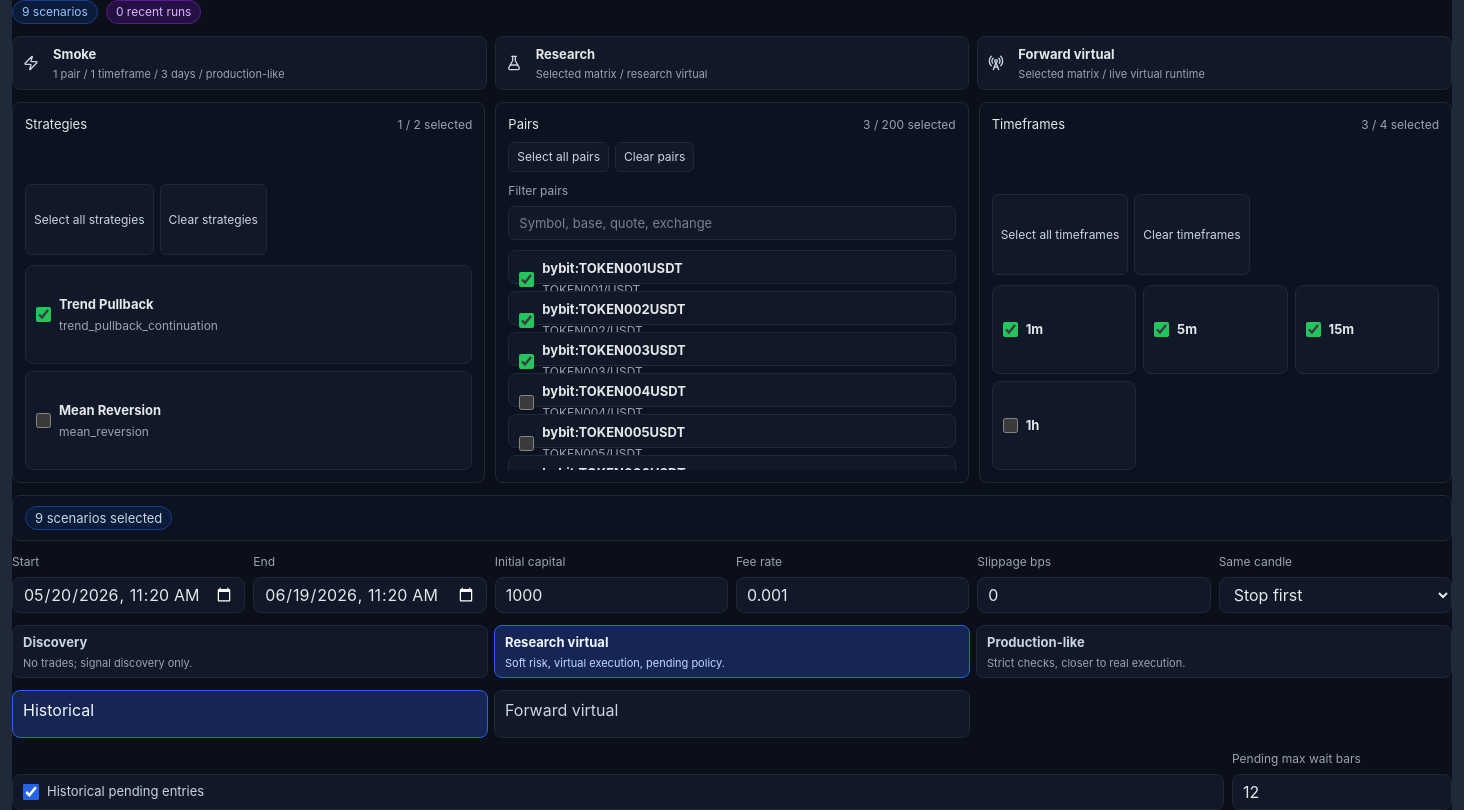
Test: StrategyTestingPanel › shows a local scenario count and large matrix warning
The width and height of the screenshot is (1464, 810).
Click the button "Select all strategies". click: (89, 220)
box: [25, 184, 154, 255]
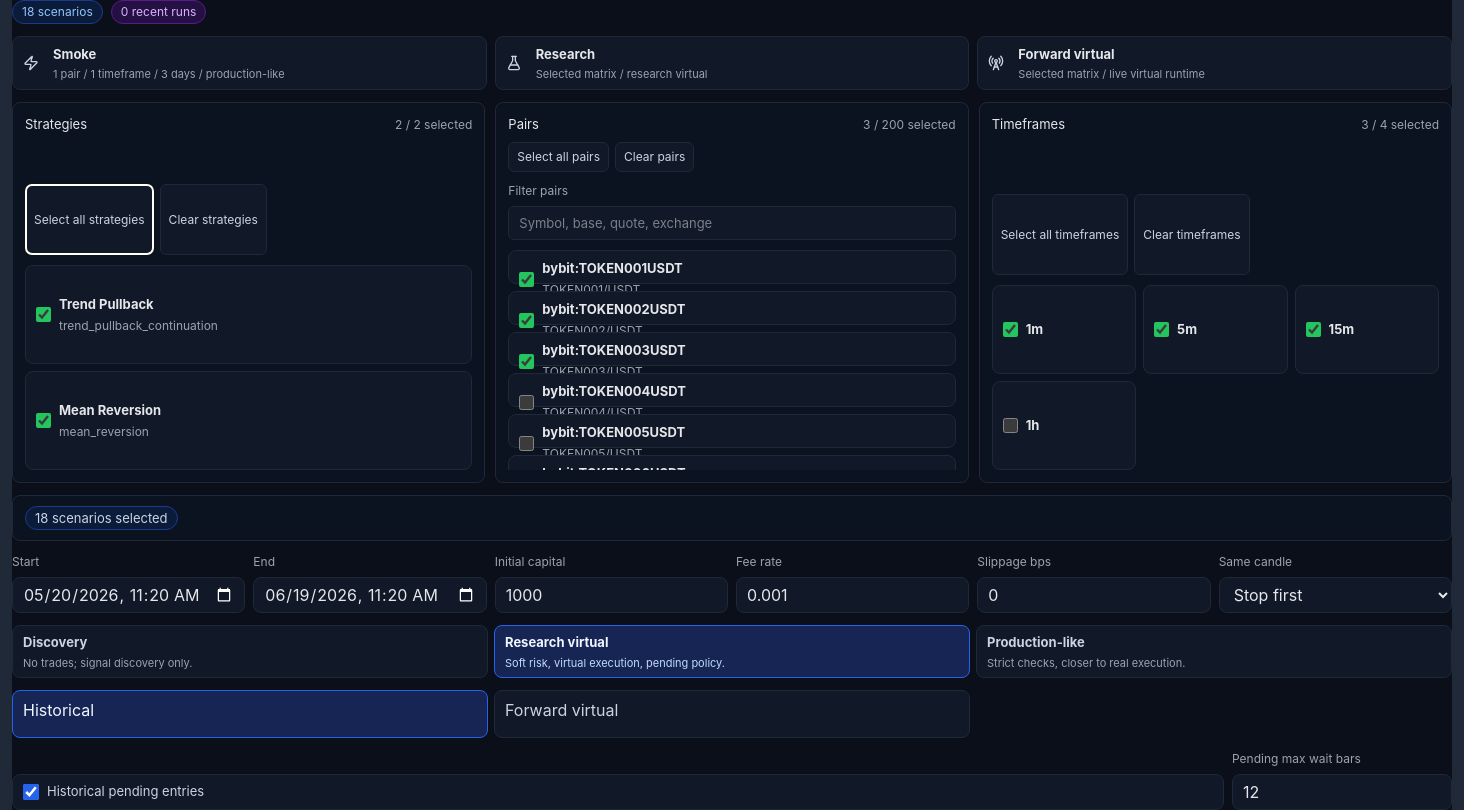
Click the button "Select all pairs". click: (559, 157)
box: [508, 142, 609, 172]
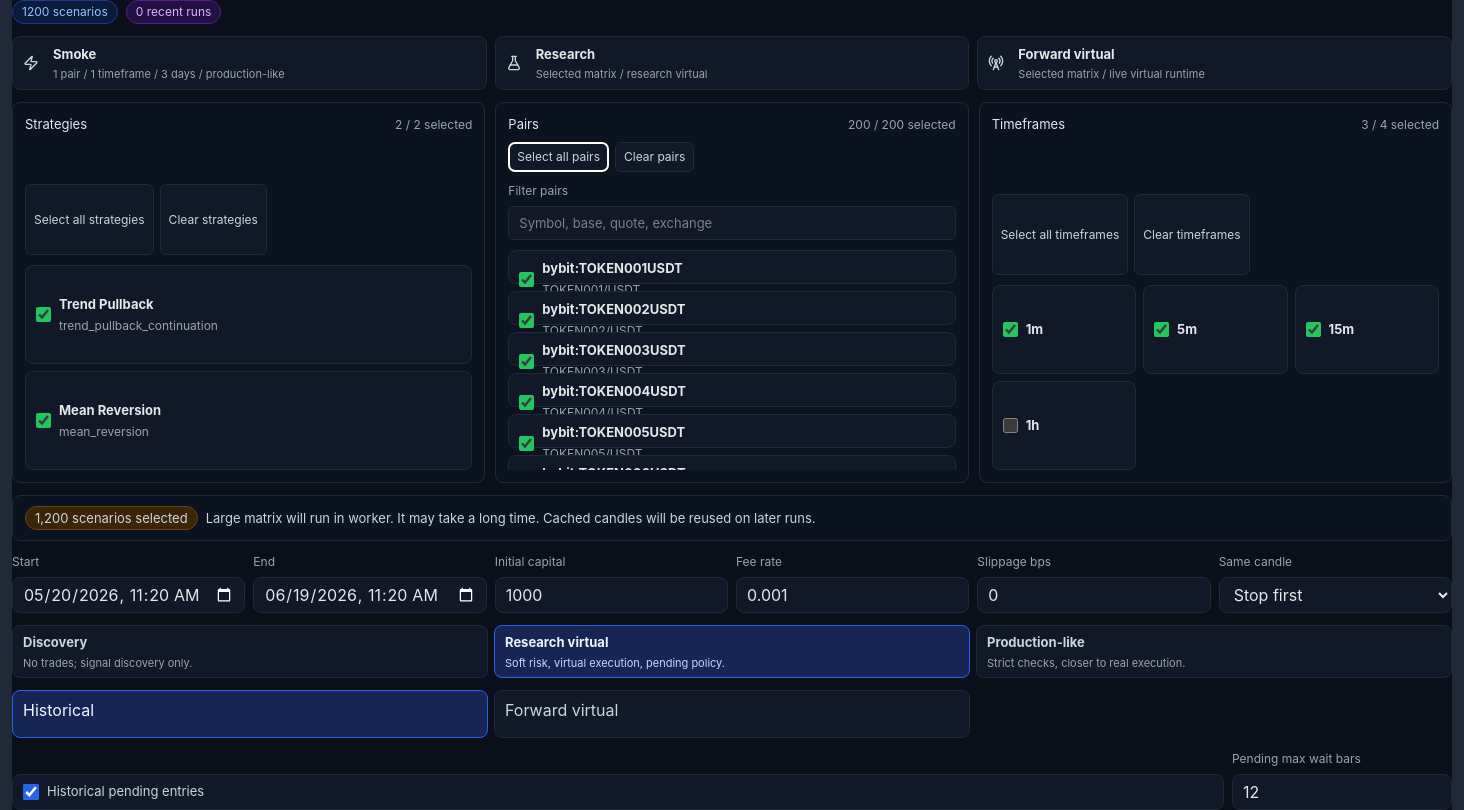
Click the button "Select all timeframes". click: (1060, 235)
box: [992, 194, 1128, 275]
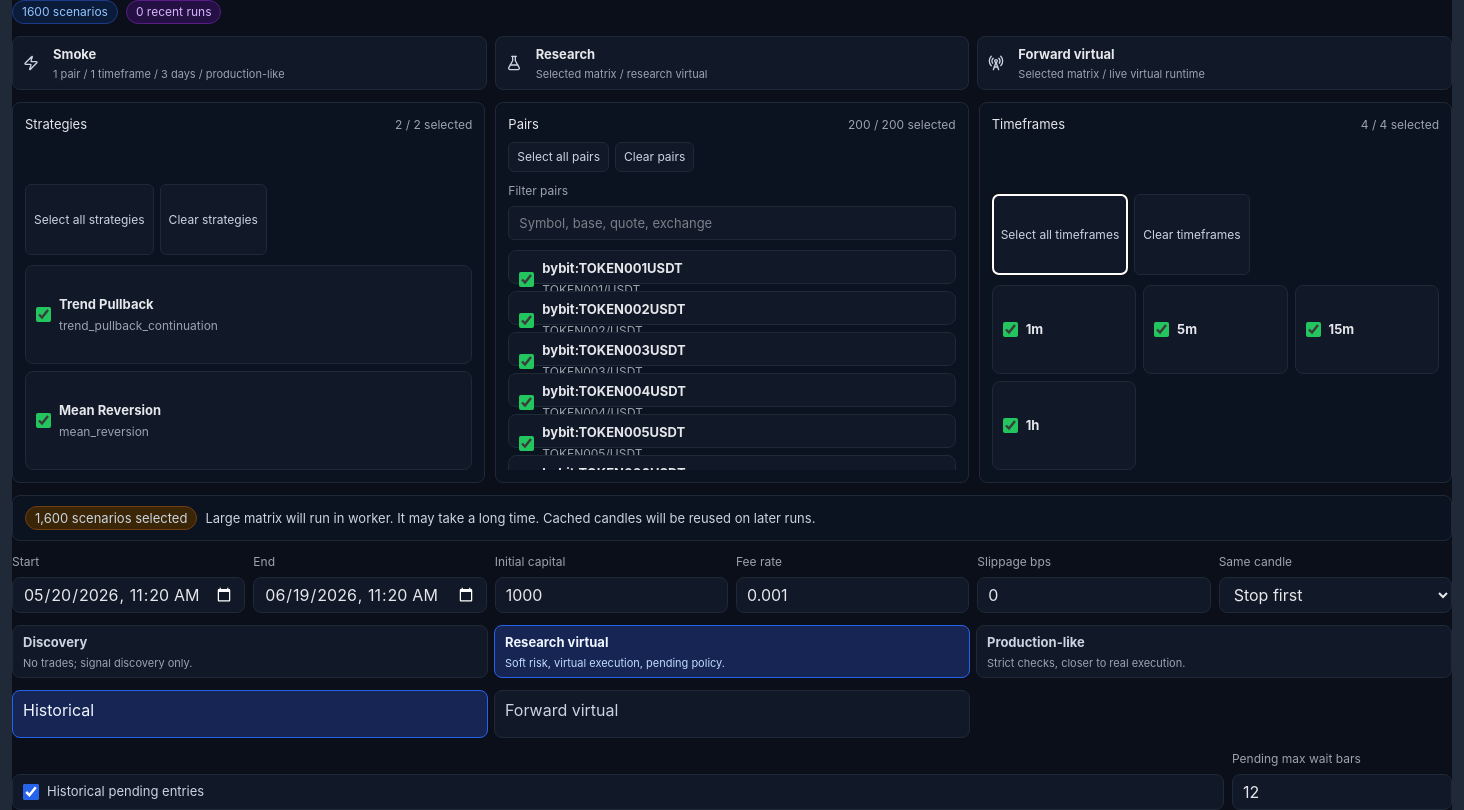
Expected: the text "Large matrix will run in worker. It may take a long time. Cached candles will be reused on later runs." is shown, [205, 510, 815, 526]
Expected: the text "1,600 scenarios selected" is shown, [25, 506, 197, 530]
